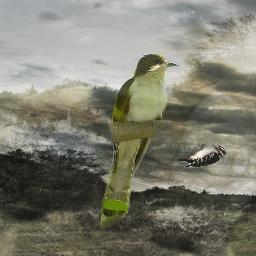Cuckoo: (100, 53, 179, 229)
Woodpecker: (176, 144, 229, 169)
